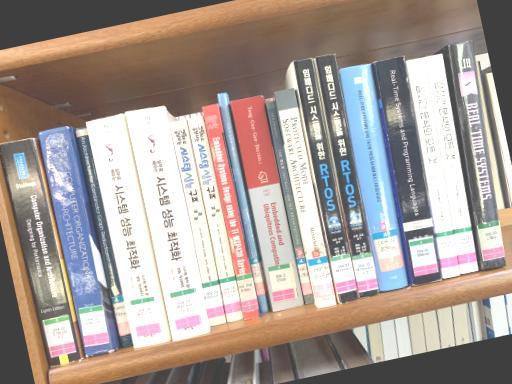book-spine: (86, 113, 170, 348), (126, 106, 210, 341), (0, 138, 81, 367), (38, 126, 112, 356), (294, 58, 359, 303), (316, 54, 380, 299), (340, 64, 409, 291), (232, 96, 304, 312), (376, 56, 442, 286), (448, 40, 507, 269), (276, 88, 337, 309), (75, 127, 133, 347), (203, 104, 260, 321), (425, 54, 479, 274), (407, 57, 460, 279), (170, 120, 226, 326), (188, 116, 243, 323), (218, 93, 268, 312), (267, 101, 313, 305)
